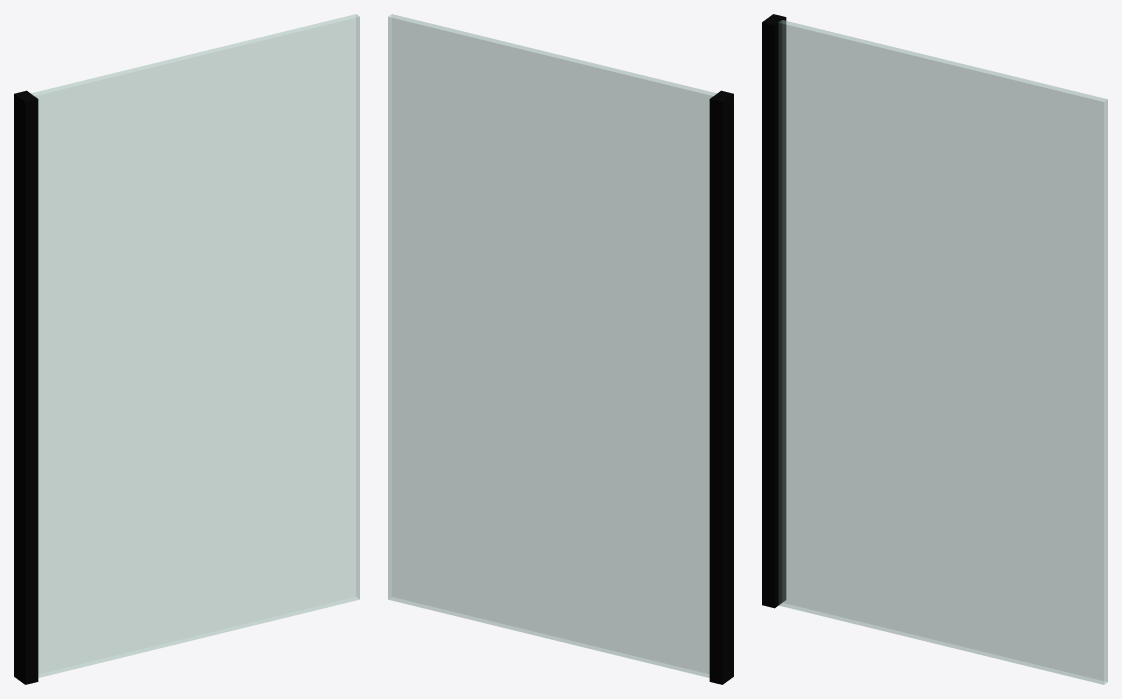
File: messi.fbx
The picture shows the model from 3 angles, left to right: view 1: azimuth 30°, elevation 25°; view 2: azimuth 150°, elevation 25°; view 3: azimuth 330°, elevation 25°; orthographic projection.
Visible parts, largest first — view 1: Cube.001, Cube; view 2: Cube.001, Cube; view 3: Cube.001, Cube.
Boxes of the visible parts, x1,y1,x2,y2 form: Cube.001: (31, 14, 359, 677); Cube: (14, 90, 38, 684); Cube.001: (388, 14, 716, 677); Cube: (709, 90, 733, 684); Cube.001: (779, 20, 1107, 684); Cube: (762, 14, 786, 608).
Size of the model in its own units: 741 by 1220 by 43.21.
